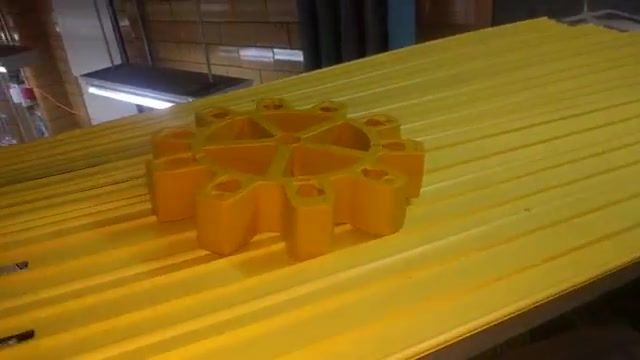gear: (133, 89, 439, 263)
